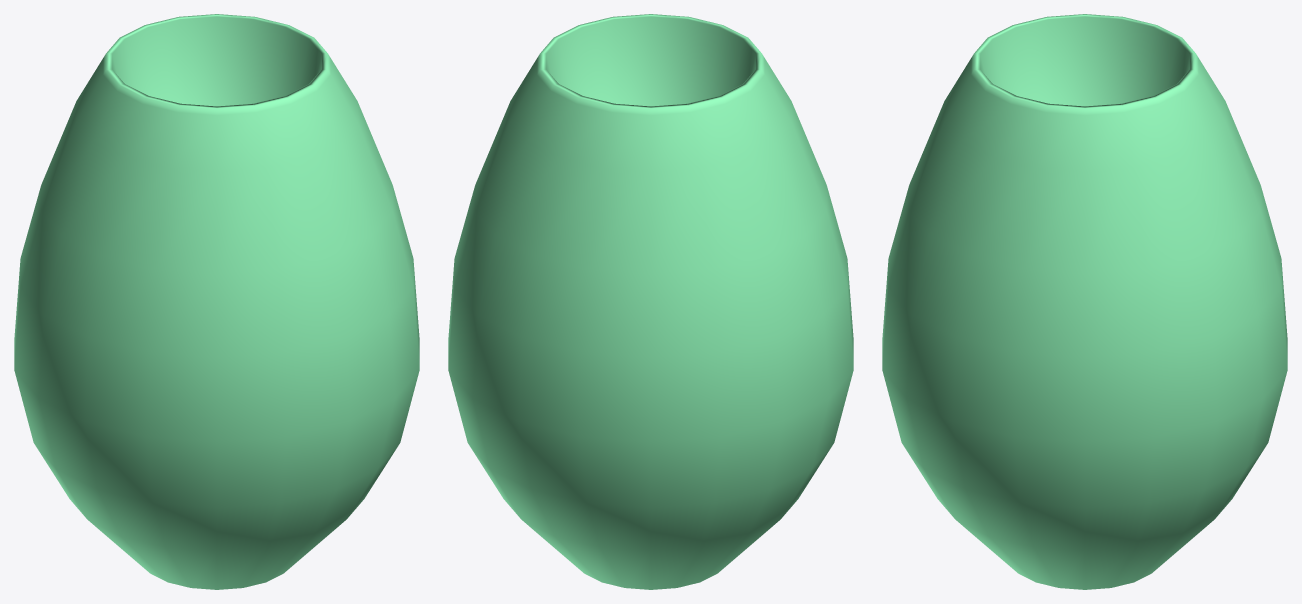
Rendered from kabin132.fbx.
3 views of the same model, side by side, from view 1: azimuth 30°, elevation 25°; view 2: azimuth 150°, elevation 25°; view 3: azimuth 270°, elevation 25° (orthographic).
Visible parts, largest first — view 1: low_kabin; view 2: low_kabin; view 3: low_kabin.
Boxes of the visible parts, x1,y1,x2,y2 form: low_kabin: (14,14,419,589); low_kabin: (448,14,853,589); low_kabin: (882,14,1287,589).
Size of the model in its own units: 10.72 by 14.25 by 10.56.
